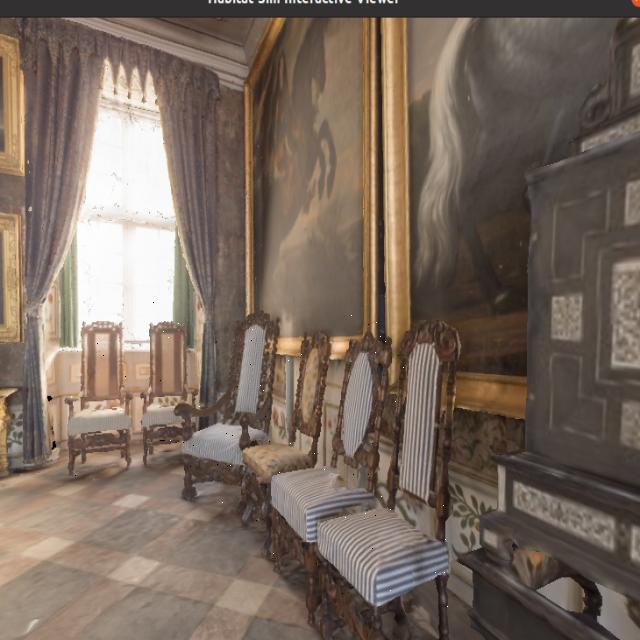chair: (302, 310, 491, 640), (267, 311, 402, 573), (182, 298, 292, 517), (242, 328, 339, 534), (65, 309, 146, 511), (148, 293, 209, 473)
